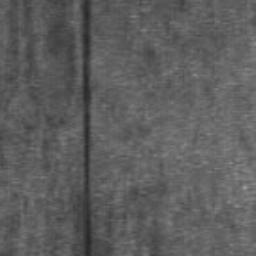Scratches: (80, 0, 94, 256)
